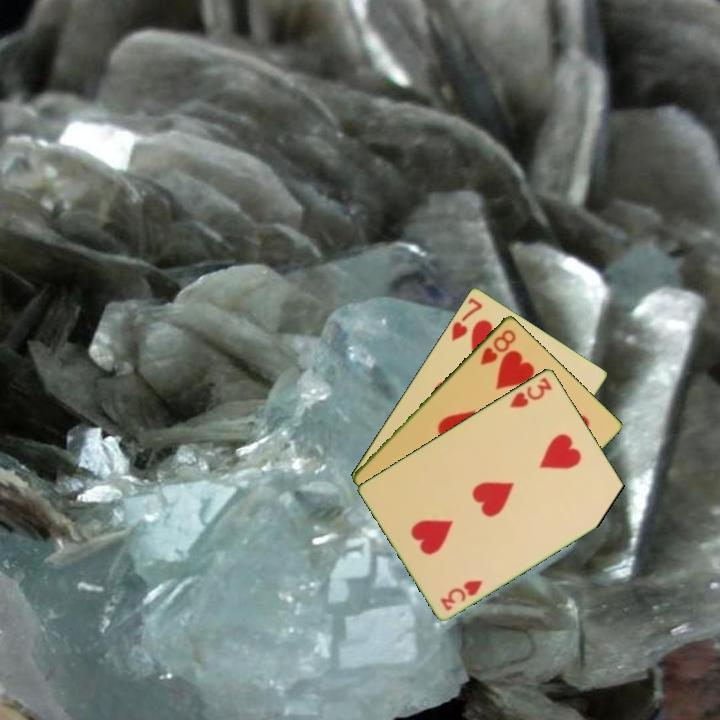3h: (506, 373, 555, 410), (437, 576, 486, 613)
7h: (448, 294, 485, 344)
8h: (476, 325, 519, 368)
